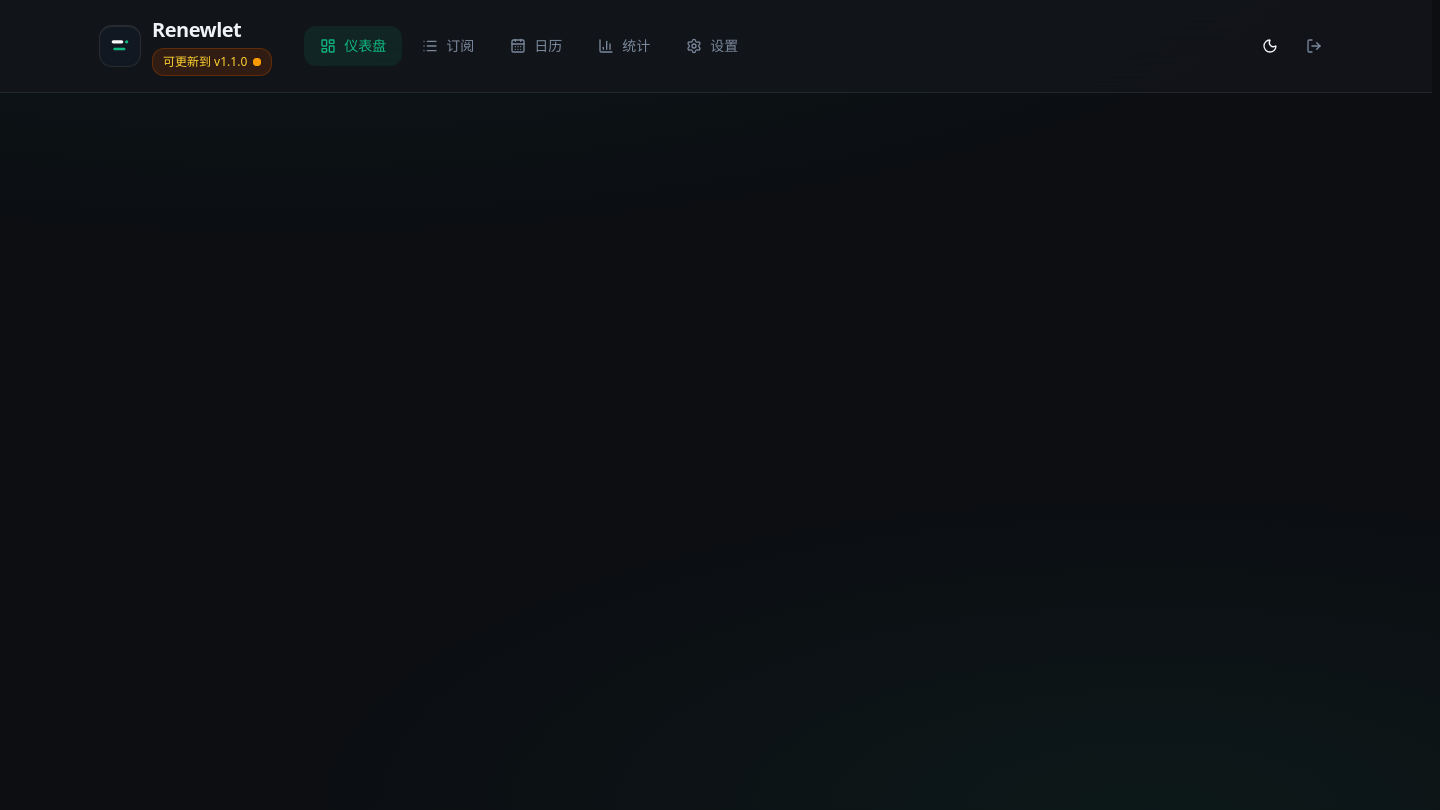
Test case: Header system version entry › shows the version badge for administrators and opens the update dialog
What coordinates should you click on to do the following:
click the button with aria-label "打开系统更新"
I would click on:
 (212, 62)
Its box is x1=152 y1=48 x2=272 y2=76.
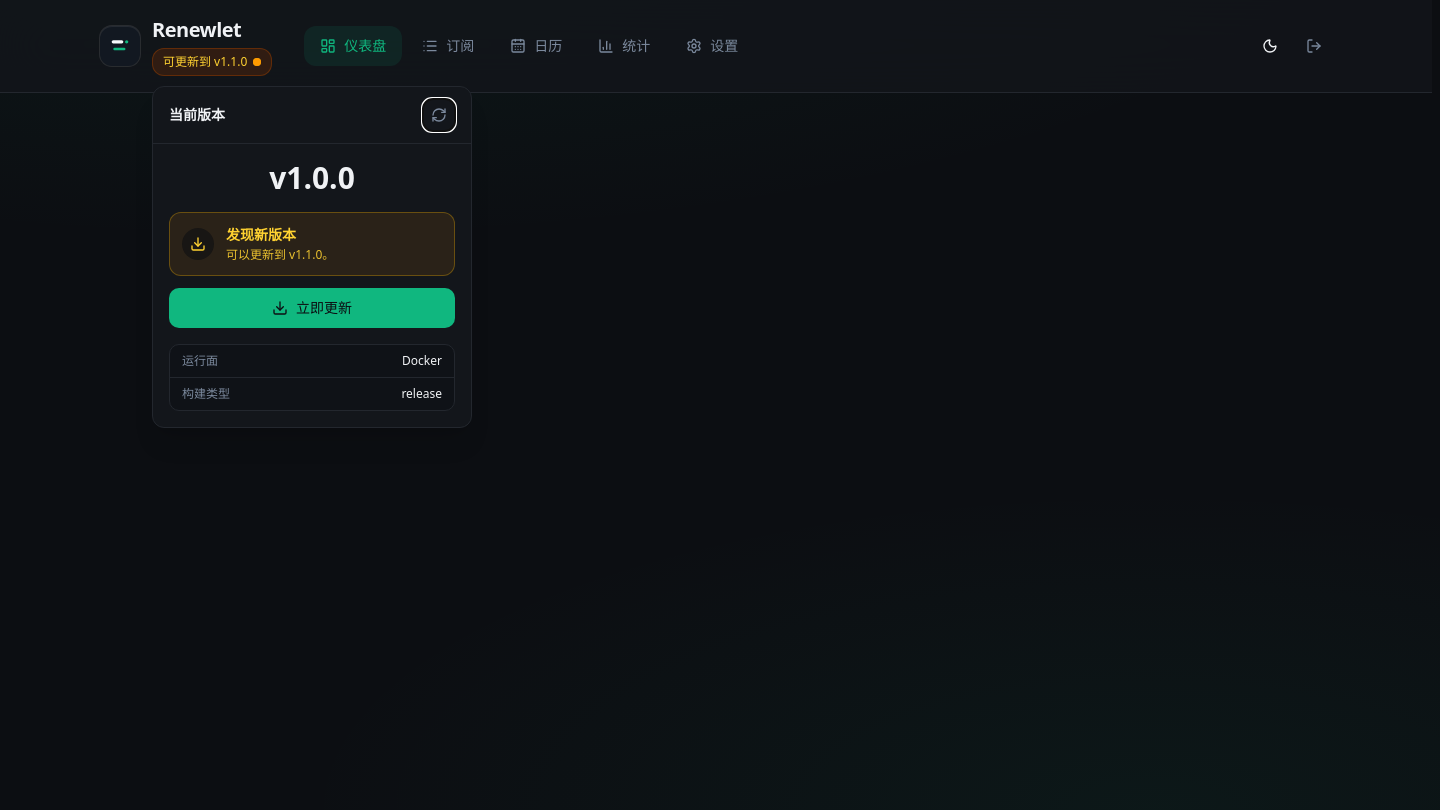
Check: the text "可更新到 v1.1.0" is shown, box x1=163 y1=54 x2=247 y2=70
Check: the text "当前版本" is shown, box x1=169 y1=105 x2=225 y2=125
